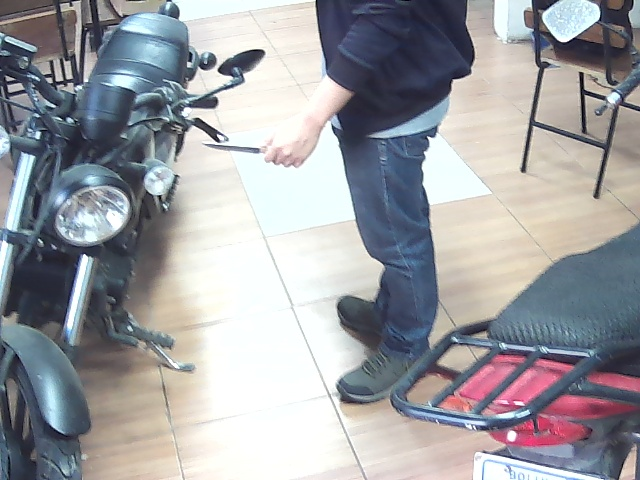cuchillo: (194, 119, 322, 173)
